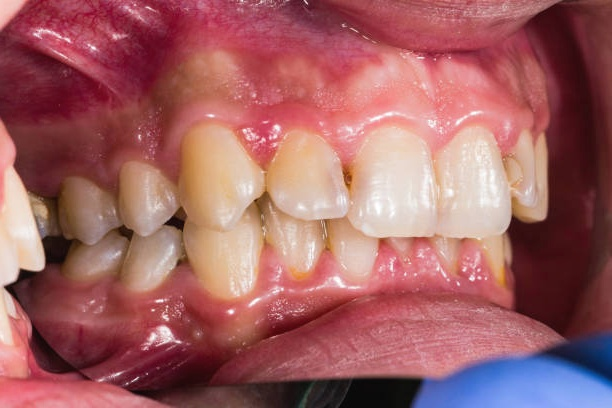Gingivitis: (253, 11, 342, 93), (237, 119, 282, 166)
